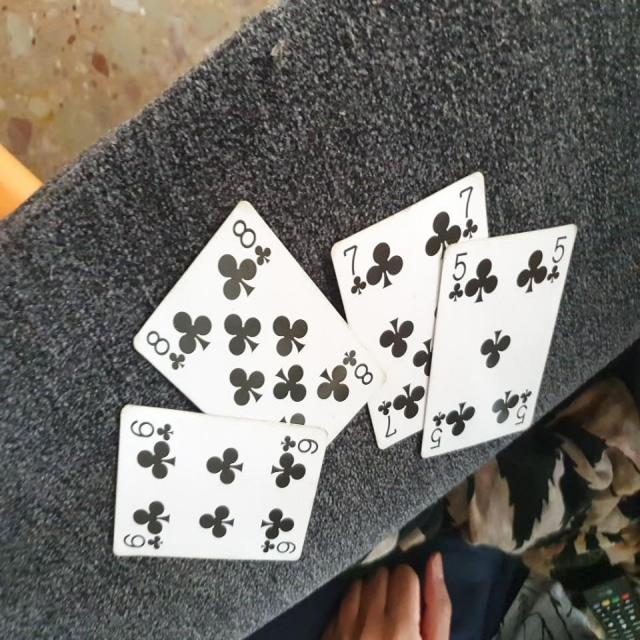5 Trefoils: (420, 221, 581, 458)
6 Trefoils: (112, 404, 327, 564)
7 Trefoils: (328, 170, 490, 450)
8 Trefoils: (129, 195, 388, 442)
